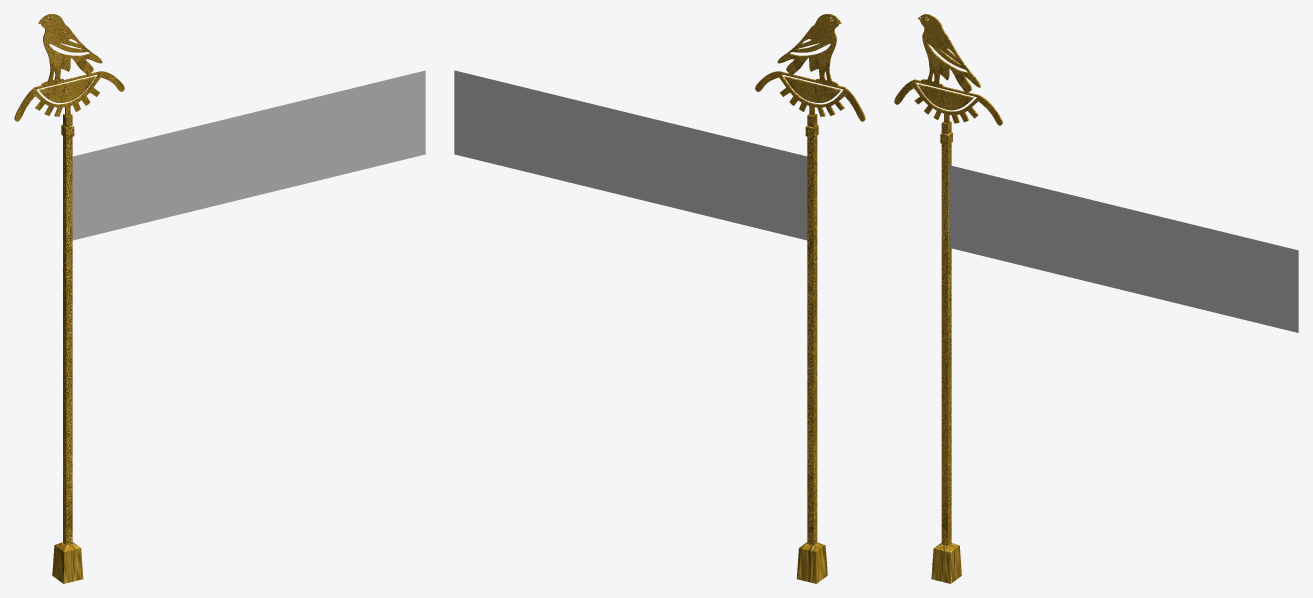
The model's file is Flag.fbx.
The picture shows the model from 3 angles, left to right: view 1: azimuth 30°, elevation 25°; view 2: azimuth 150°, elevation 25°; view 3: azimuth 330°, elevation 25°; orthographic projection.
Visible parts, largest first — view 1: flag, symbol; view 2: flag, symbol; view 3: flag, symbol.
Boxes of the visible parts, x1,y1,x2,y2 form: flag: [72, 70, 425, 240]; symbol: [14, 14, 124, 583]; flag: [454, 70, 807, 240]; symbol: [755, 14, 865, 583]; flag: [949, 165, 1298, 332]; symbol: [894, 14, 1002, 583].
Size of the model in its own units: 553 by 731 by 26.57.
